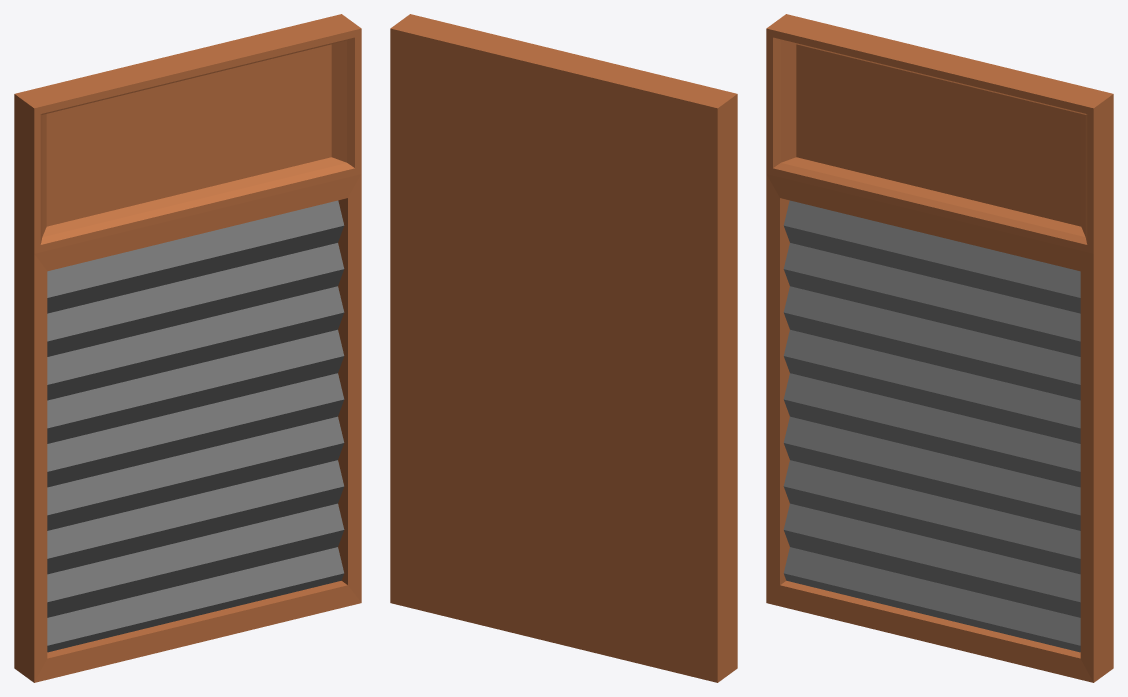
File: handWashingBoard.fbx
3 renders of one model, left to right at view 1: azimuth 30°, elevation 25°; view 2: azimuth 150°, elevation 25°; view 3: azimuth 330°, elevation 25°, orthographic.
Visible parts, largest first — view 1: Hand Washing Board; view 2: Hand Washing Board; view 3: Hand Washing Board.
Boxes of the visible parts, x1=… form: Hand Washing Board: x1=14, y1=14, x2=361, y2=682; Hand Washing Board: x1=390, y1=14, x2=737, y2=682; Hand Washing Board: x1=766, y1=14, x2=1113, y2=682.
Size of the model in its own units: 36.36 by 3.81 by 60.98.
